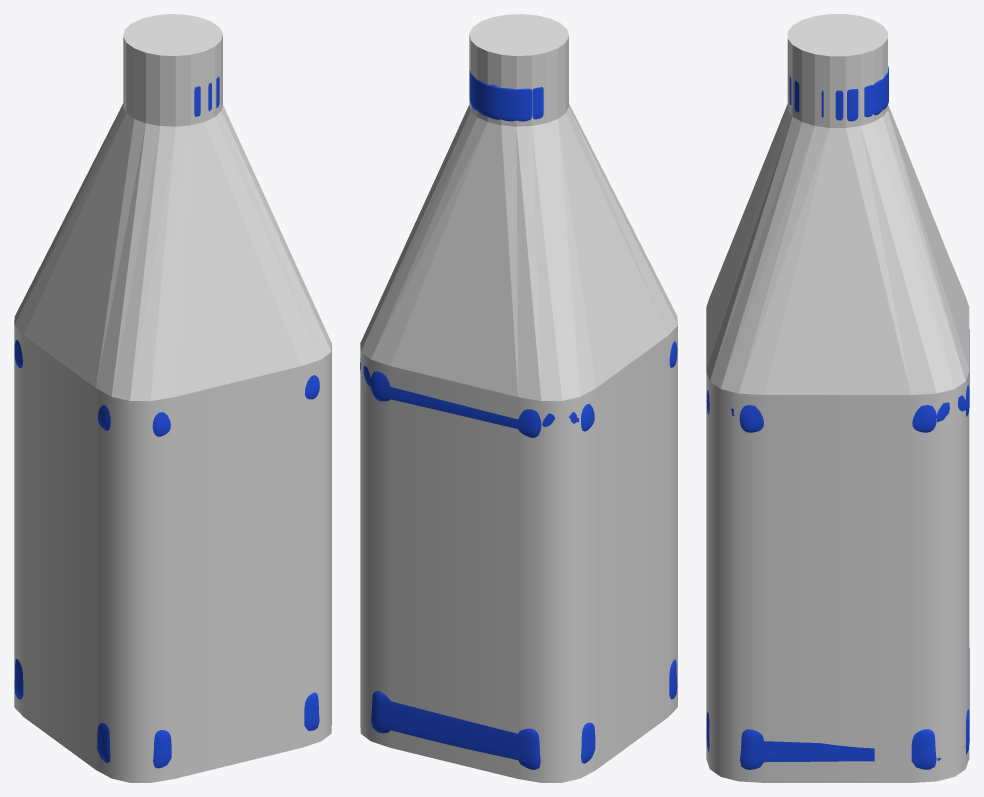
File: Whiskey2.FBX
3 renders of one model, left to right at view 1: azimuth 30°, elevation 25°; view 2: azimuth 150°, elevation 25°; view 3: azimuth 270°, elevation 25°, orthographic.
Visible parts, largest first — view 1: Box001, X001_001_liquor_jack_daniels001; view 2: Box001, X001_001_liquor_jack_daniels001; view 3: Box001, X001_001_liquor_jack_daniels001.
Part boxes in pixels (x1,y1,x2,y2): Box001: (14,14,331,782); X001_001_liquor_jack_daniels001: (14,76,319,768); Box001: (360,14,677,782); X001_001_liquor_jack_daniels001: (360,70,677,769); Box001: (706,14,969,782); X001_001_liquor_jack_daniels001: (706,66,969,769).
Bounding box in the file's own units: 0.0867 × 0.2492 × 0.086.
